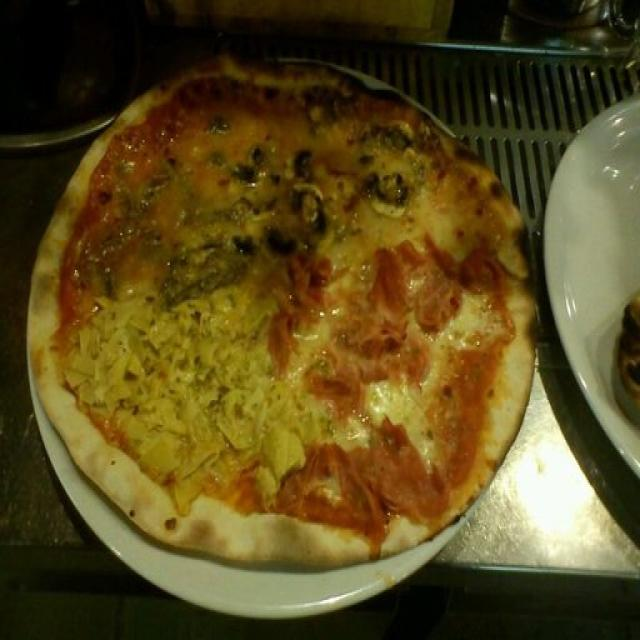Ham: (292, 442, 376, 530), (269, 258, 336, 364), (372, 434, 445, 514), (346, 316, 422, 378), (309, 364, 369, 430), (416, 246, 461, 324), (370, 240, 415, 318), (462, 239, 513, 301)
Mushrooms: (290, 157, 332, 213), (375, 160, 412, 209), (245, 143, 279, 196), (376, 116, 414, 160), (265, 229, 309, 260), (302, 93, 333, 123), (228, 193, 264, 217), (355, 118, 377, 156), (204, 143, 229, 173), (210, 118, 233, 143)
Pizza: (28, 58, 534, 567)
